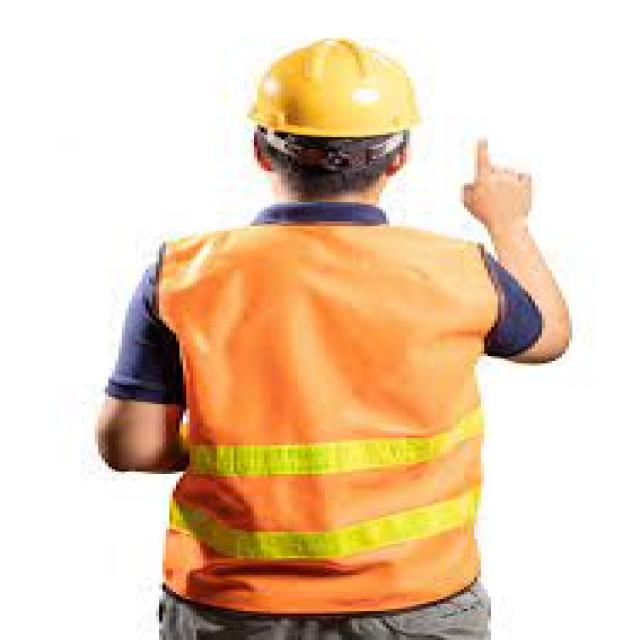Reflective-Jacket: (125, 212, 515, 618)
Safety-Helmet: (237, 31, 437, 147)
